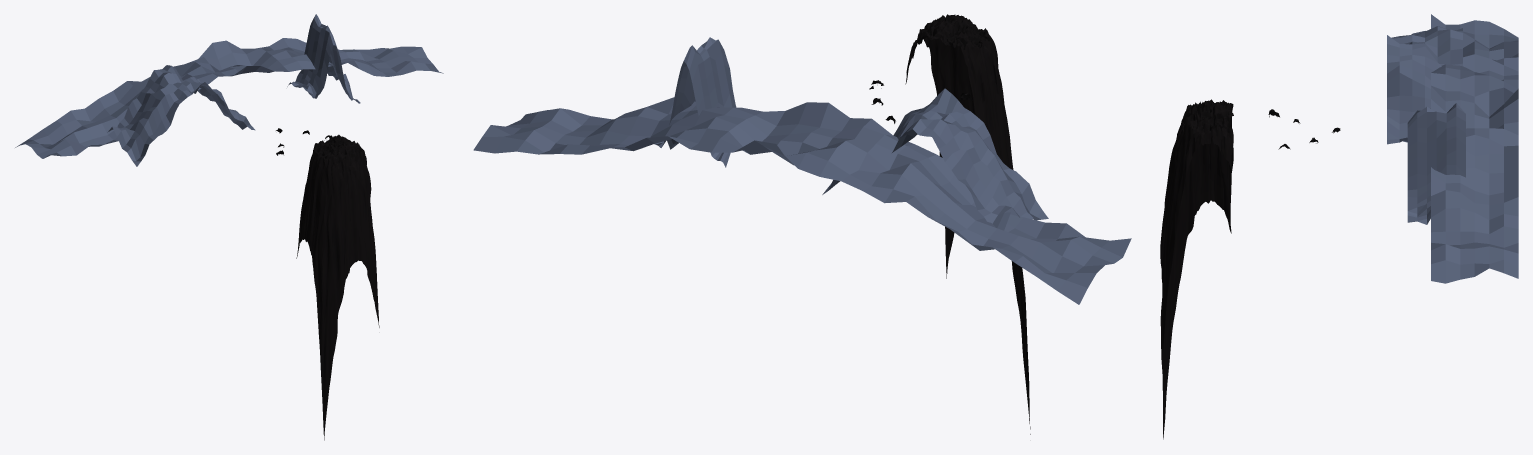
File: summit.glb
3 renders of one model, left to right at view 1: azimuth 30°, elevation 25°; view 2: azimuth 150°, elevation 25°; view 3: azimuth 270°, elevation 25°, orthographic. The views are drawn at different scales.
Visible parts, largest first — view 1: Peaks, Outcrop; view 2: Peaks, Outcrop; view 3: Peaks, Outcrop.
Boxes of the visible parts, box(x1,y1,x2,y2) form: Peaks: box(15, 14, 443, 166); Outcrop: box(296, 134, 379, 440); Peaks: box(473, 37, 1131, 304); Outcrop: box(905, 14, 1030, 434); Peaks: box(1387, 14, 1518, 283); Outcrop: box(1160, 99, 1233, 439).
Size of the model in its own units: 200 by 153 by 123.
